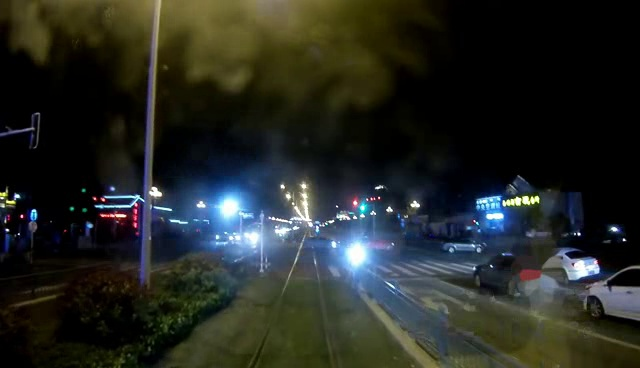car: (524, 245, 603, 288), (583, 265, 640, 321), (478, 257, 553, 299), (443, 234, 489, 255), (359, 232, 398, 253), (304, 234, 342, 253)
